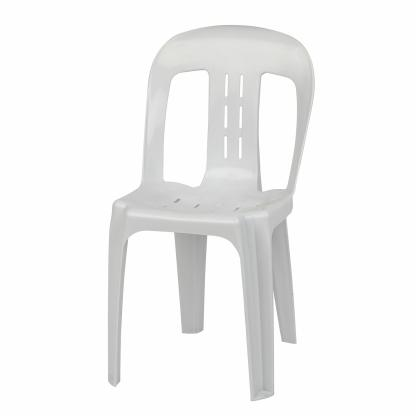chair: (110, 25, 313, 410)
